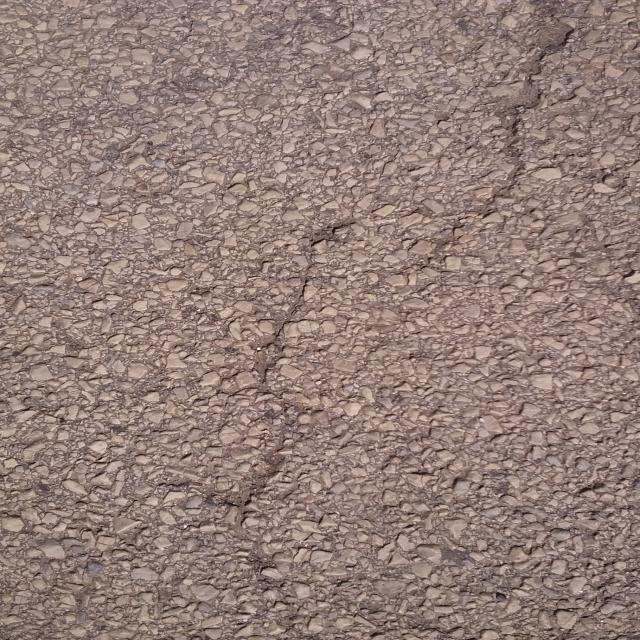Crack: (134, 0, 582, 640)
